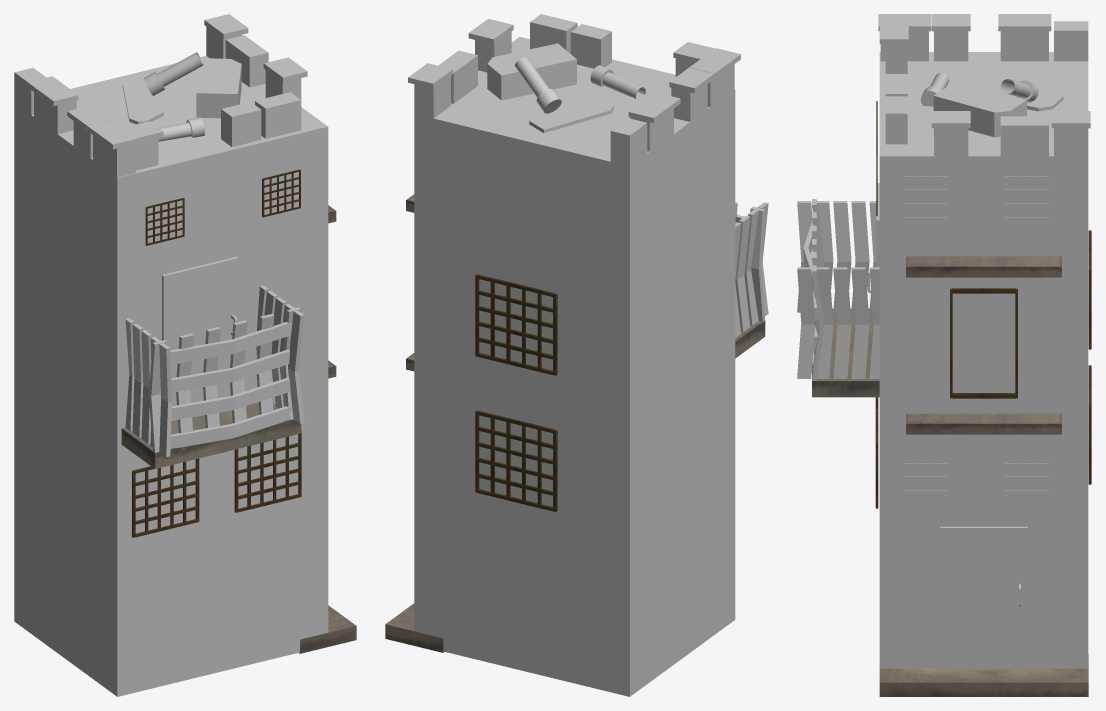
File: Nha 1.3.fbx
3 views of the same model, side by side, from view 1: azimuth 30°, elevation 25°; view 2: azimuth 150°, elevation 25°; view 3: azimuth 270°, elevation 25° (orthographic). The views are drawn at different scales.
Parts seen in each view (by area): view 1: Plane.015, Plane.013, Cube.072, thanh sat .004, Plane.016, cot ngang .002, cua go.008, thanh sat .003, thanh cua rir sets .041, Cube.073, thanh cua rir sets .042, Them nha.014 (+7 smaller); view 2: Plane.014, Plane.013, Cube.072, Plane.016, thanh cua rir sets .045, thanh cua rir sets .046, Cube.073, Cube.074, cot ngang .002, Cube.075, Them nha.012, thanh sat .003 (+3 smaller); view 3: Plane.012, cua go.007, Cube.072, cot ngang .002, Plane.016, Plane.013, Them nha.012, thanh cua rir sets .010, Them nha.011, Them nha.013, Cube.074, Cube.073 (+12 smaller).
Part boxes in pixels (x1,y1,x2,y2): Plane.015: (117, 126, 328, 696); Plane.013: (14, 103, 117, 696); Cube.072: (14, 14, 307, 177); thanh sat .004: (170, 322, 292, 448); Plane.016: (32, 56, 327, 177); cot ngang .002: (125, 285, 304, 457); cua go.008: (162, 257, 238, 406); thanh sat .003: (149, 307, 301, 452); thanh cua rir sets .041: (132, 458, 199, 537); Cube.073: (122, 92, 301, 170); thanh cua rir sets .042: (234, 430, 301, 512); Them nha.014: (121, 402, 301, 468); Plane.014: (414, 114, 629, 696); Plane.013: (630, 89, 735, 696); Cube.072: (408, 19, 740, 166); Plane.016: (434, 37, 709, 161); thanh cua rir sets .045: (475, 274, 557, 375); thanh cua rir sets .046: (475, 410, 557, 511); Cube.073: (530, 14, 715, 76); Cube.074: (487, 43, 576, 100); cot ngang .002: (735, 202, 768, 337); Cube.075: (529, 100, 613, 133); Them nha.012: (385, 603, 444, 652); thanh sat .003: (735, 202, 764, 321); Plane.012: (879, 156, 1088, 668); cua go.007: (940, 526, 1027, 669); Cube.072: (878, 14, 1090, 156); cot ngang .002: (797, 201, 879, 378); Plane.016: (879, 52, 1088, 156); Plane.013: (903, 177, 1049, 485); Them nha.012: (879, 655, 1088, 696); thanh cua rir sets .010: (950, 288, 1017, 398); Them nha.011: (906, 413, 1061, 434); Them nha.013: (906, 256, 1061, 277); Cube.074: (933, 81, 1026, 137); Cube.073: (879, 25, 908, 144).
Bounding box in the file's own units: 771 × 1701 × 796.
